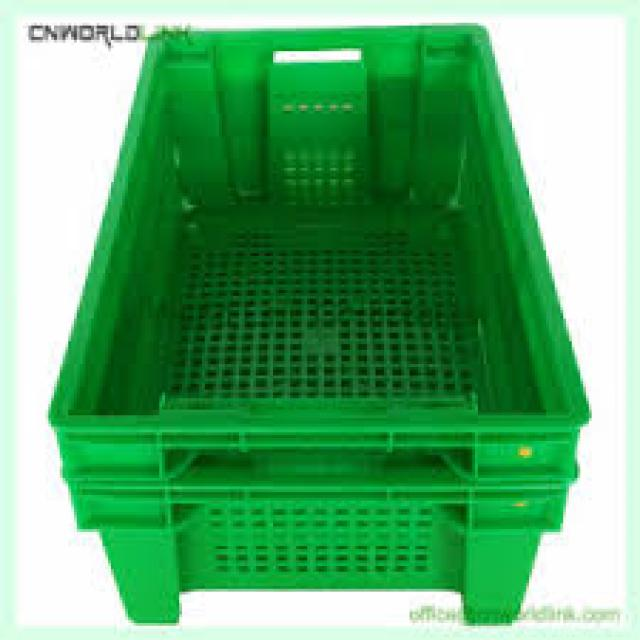basket: (50, 25, 593, 626)
